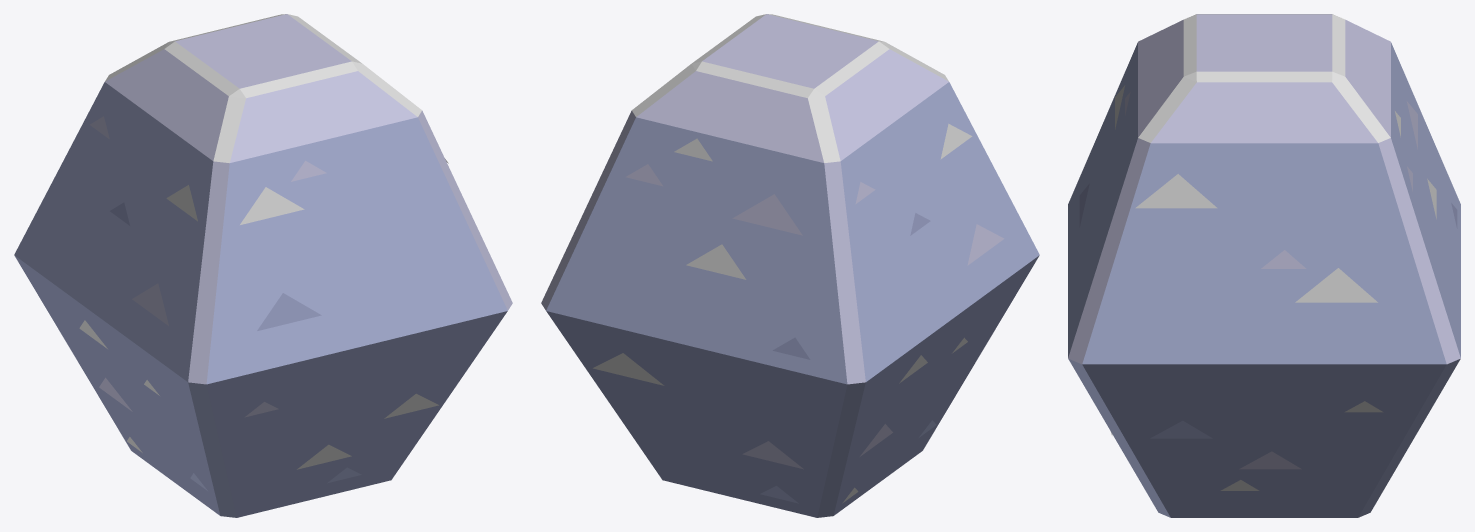
The model's file is Prop_Shrubs_01.fbx.
The picture shows the model from 3 angles, left to right: view 1: azimuth 30°, elevation 25°; view 2: azimuth 150°, elevation 25°; view 3: azimuth 270°, elevation 25°; orthographic projection. The views are drawn at different scales.
Visible parts, largest first — view 1: MODEL_Shrubs_01; view 2: MODEL_Shrubs_01; view 3: MODEL_Shrubs_01.
Part boxes in pixels (x1,y1,x2,y2): MODEL_Shrubs_01: (14, 14, 512, 517); MODEL_Shrubs_01: (541, 14, 1039, 517); MODEL_Shrubs_01: (1068, 14, 1460, 517).
Size of the model in its own units: 310 by 374 by 310.
